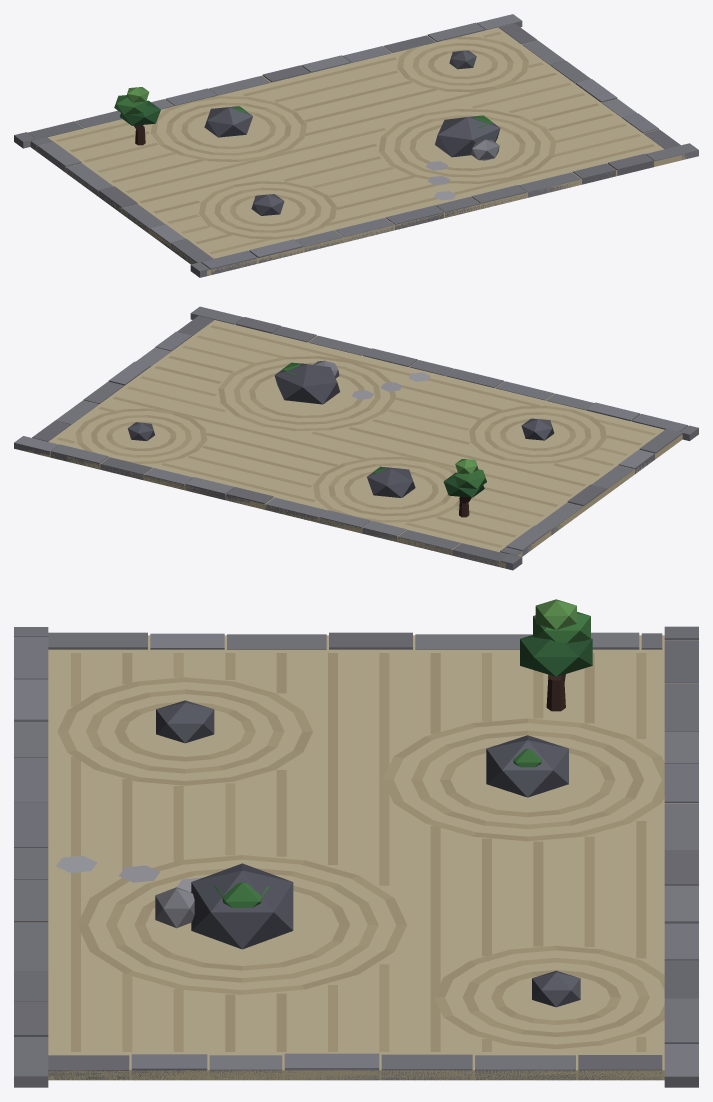
File: Decor_NinjaDojo_Zen.fbx
3 views of the same model, one above another, from view 1: azimuth 30°, elevation 25°; view 2: azimuth 150°, elevation 25°; view 3: azimuth 270°, elevation 25° (orthographic). The views are drawn at different scales.
Parts seen in each view (by area): view 1: Zen_Body; view 2: Zen_Body; view 3: Zen_Body.
Boxes of the visible parts, x1=… form: Zen_Body: x1=14, y1=14, x2=698, y2=277; Zen_Body: x1=14, y1=306, x2=698, y2=570; Zen_Body: x1=14, y1=599, x2=698, y2=1087.
Size of the model in its own units: 37.2 by 4.7 by 24.
